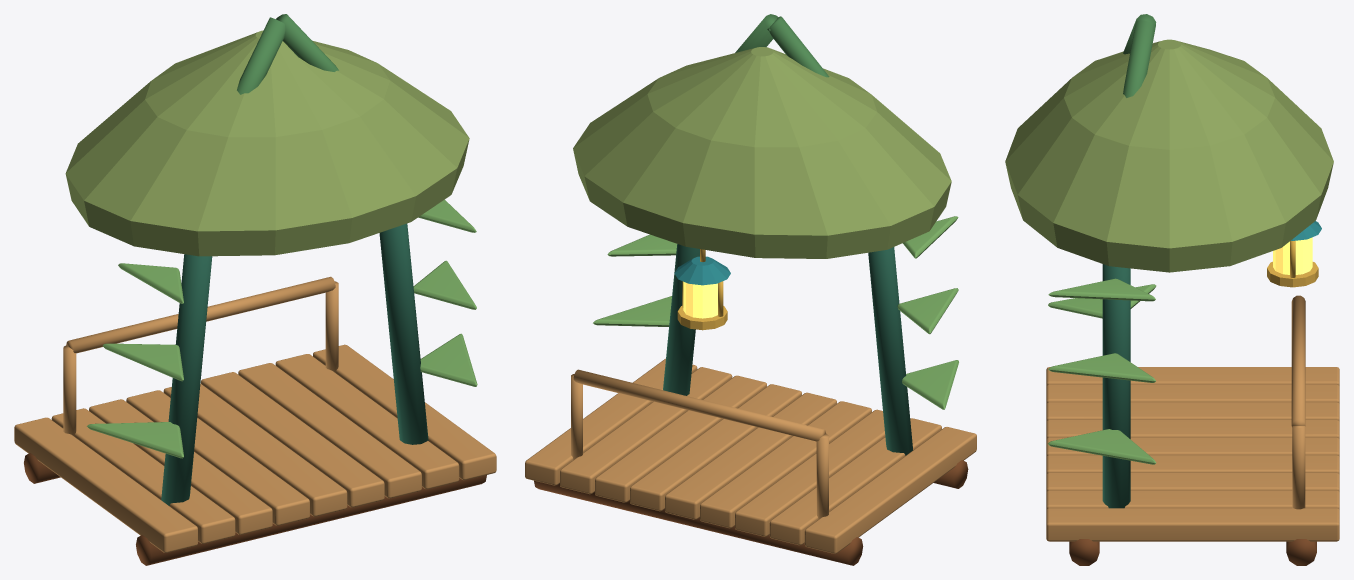
File: cloud-lookout.glb
3 views of the same model, side by side, from view 1: azimuth 30°, elevation 25°; view 2: azimuth 150°, elevation 25°; view 3: azimuth 270°, elevation 25° (orthographic). The views are drawn at different scales.
Visible parts, largest first — view 1: Structure; view 2: Structure, AnimatedDetail; view 3: Structure, AnimatedDetail.
Part boxes in pixels (<box>): Structure: <box>14,14,496,565</box>; Structure: <box>525,14,976,565</box>; AnimatedDetail: <box>674,249,730,330</box>; Structure: <box>1005,14,1339,565</box>; AnimatedDetail: <box>1267,221,1321,287</box>.
Size of the model in its own units: 3.58 by 4.41 by 2.85.
